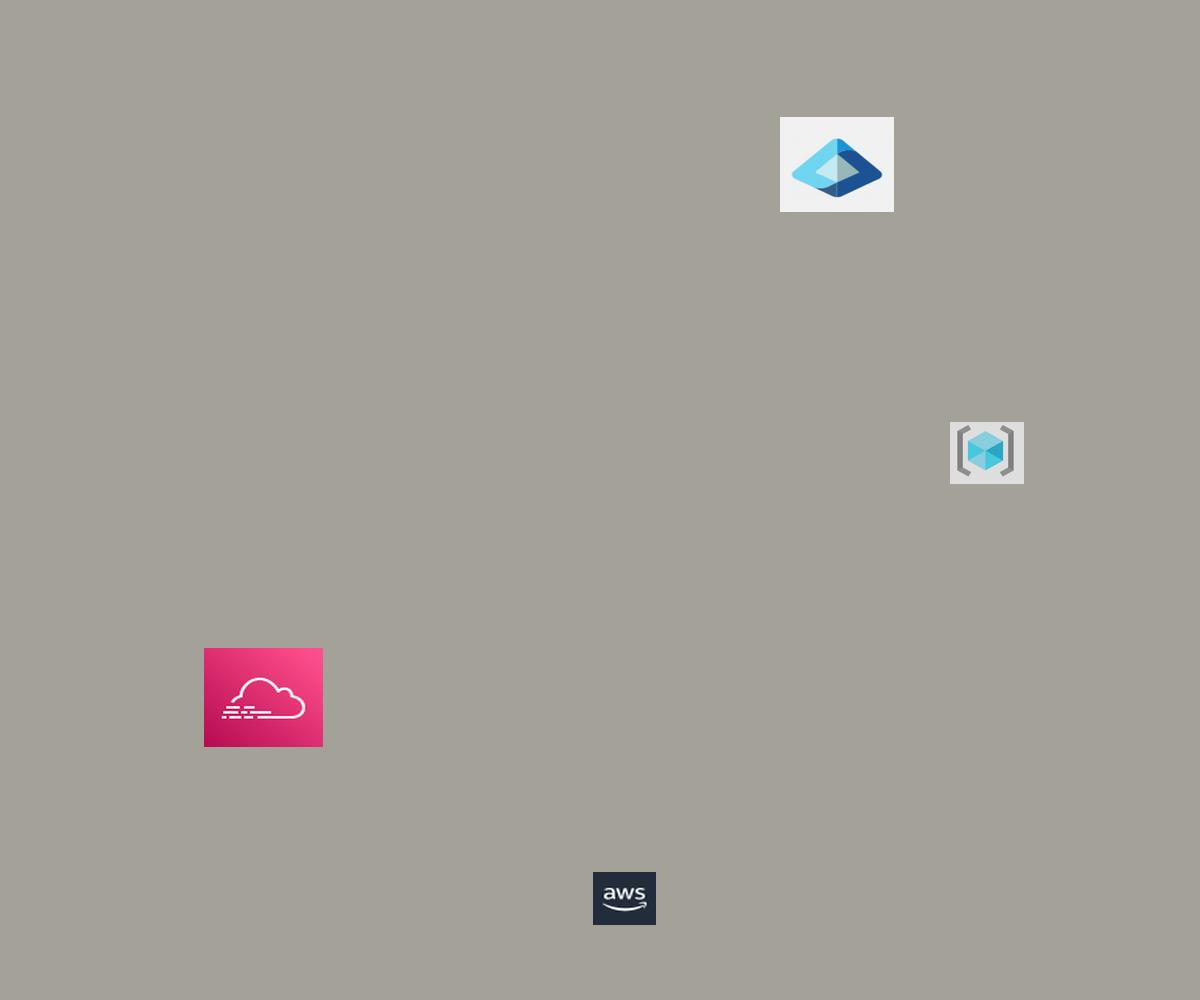AWS-Cloud-logo: (593, 872, 656, 925)
AWS-CloudTrail: (204, 648, 323, 747)
Azure_microsoft_entra: (780, 117, 894, 212)
Azure_resource_group: (950, 422, 1024, 484)
